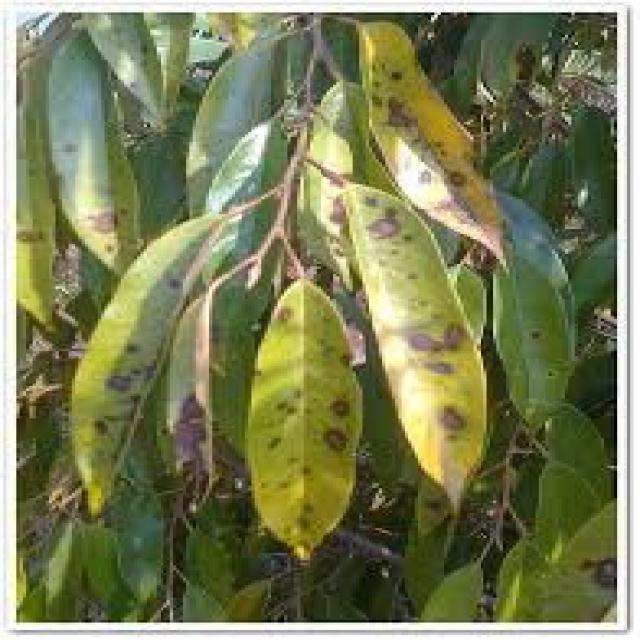Anthracnose: (367, 50, 531, 245), (372, 308, 509, 510), (60, 327, 183, 522), (42, 126, 157, 295), (253, 343, 364, 475), (325, 176, 450, 291)
